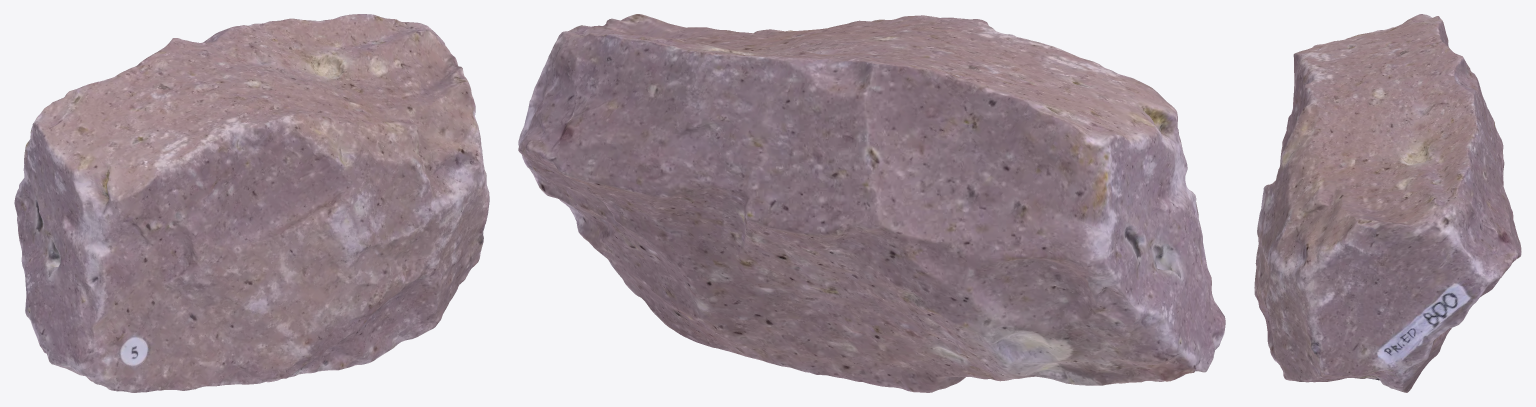
Rendered from rhyolite.glb.
3 views of the same model, side by side, from view 1: azimuth 30°, elevation 25°; view 2: azimuth 150°, elevation 25°; view 3: azimuth 270°, elevation 25° (orthographic). The views are drawn at different scales.
Visible parts, largest first — view 1: Object_2; view 2: Object_2; view 3: Object_2.
Boxes of the visible parts, x1,y1,x2,y2 form: Object_2: (14,14,489,392); Object_2: (518,14,1225,392); Object_2: (1254,14,1521,392).
Size of the model in its own units: 2.39 by 1.44 by 1.31.
1 material, 1 textured.
